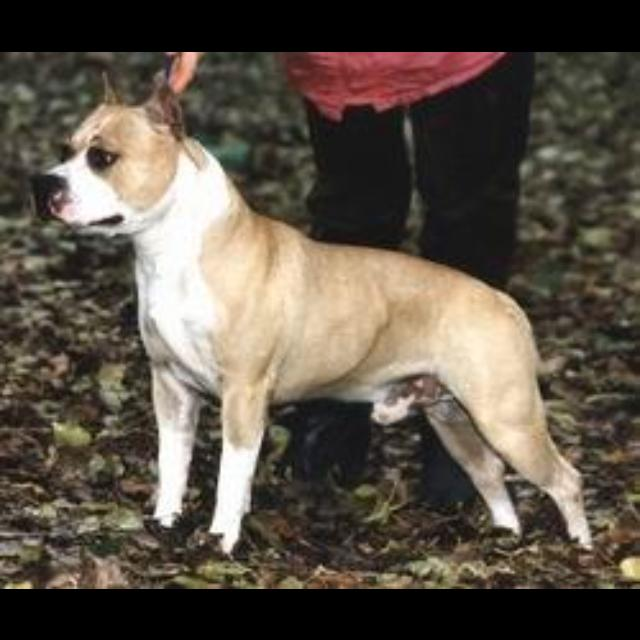amstaff: (30, 58, 595, 559)
